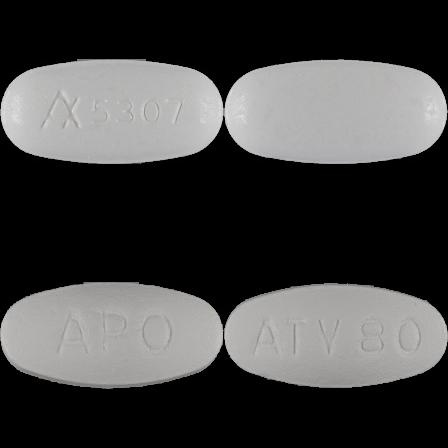0440-7033: (0, 0, 224, 224)
